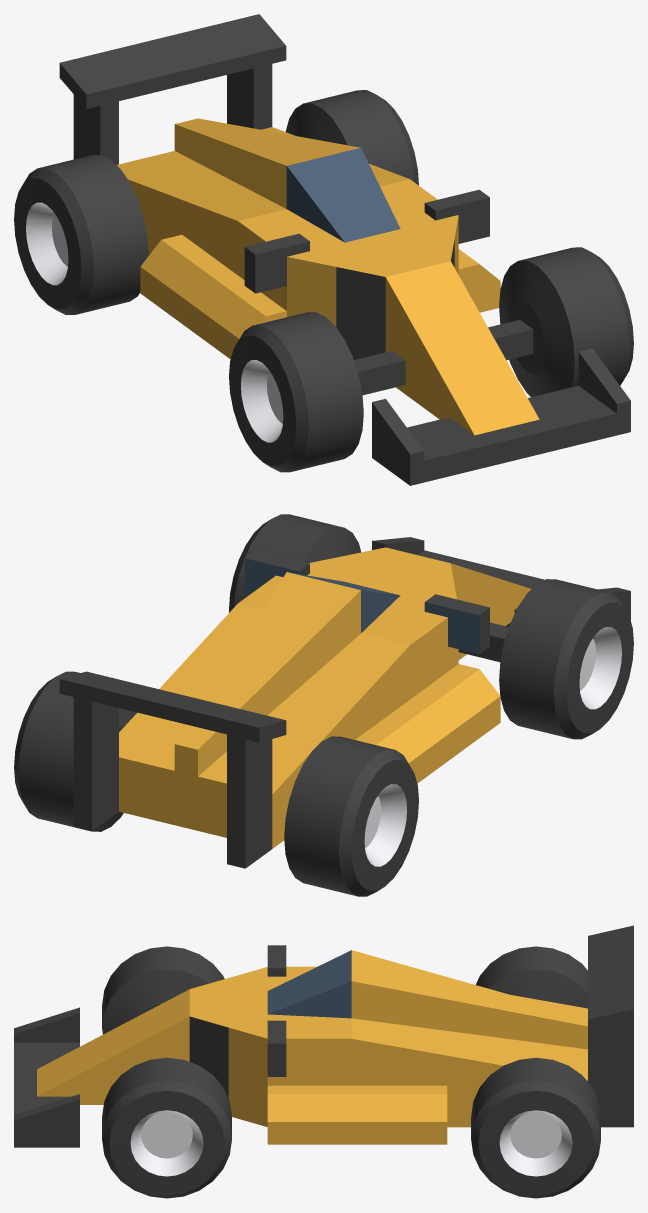
File: formula-orange.glb
The picture shows the model from 3 angles, top to bottom: view 1: azimuth 30°, elevation 25°; view 2: azimuth 150°, elevation 25°; view 3: azimuth 270°, elevation 25°; orthographic projection. The views are drawn at different scales.
Visible parts, largest first — view 1: body, wheelFrontRight, wheelBackRight, wheelFrontLeft, wheelBackLeft; view 2: body, wheelBackRight, wheelFrontRight, wheelBackLeft, wheelFrontLeft; view 3: body, wheelBackLeft, wheelFrontLeft, wheelFrontRight, wheelBackRight.
Boxes of the visible parts, left/top/right/bottom form: body: left=59, top=14, right=630, bottom=485; wheelFrontRight: left=229, top=312, right=363, bottom=472; wheelBackRight: left=14, top=155, right=148, bottom=314; wheelFrontLeft: left=499, top=247, right=633, bottom=397; wheelBackLeft: left=285, top=90, right=418, bottom=185; body: left=59, top=537, right=630, bottom=868; wheelBackRight: left=284, top=736, right=418, bottom=896; wheelFrontRight: left=499, top=579, right=633, bottom=739; wheelBackLeft: left=14, top=671, right=136, bottom=831; wheelFrontLeft: left=229, top=514, right=360, bottom=612; body: left=14, top=925, right=633, bottom=1147; wheelBackLeft: left=471, top=1057, right=600, bottom=1198; wheelFrontLeft: left=102, top=1057, right=231, bottom=1198; wheelFrontRight: left=102, top=946, right=224, bottom=1034; wheelBackRight: left=476, top=946, right=587, bottom=1008.
Size of the model in its own units: 0.7288 by 0.397 by 1.35.
